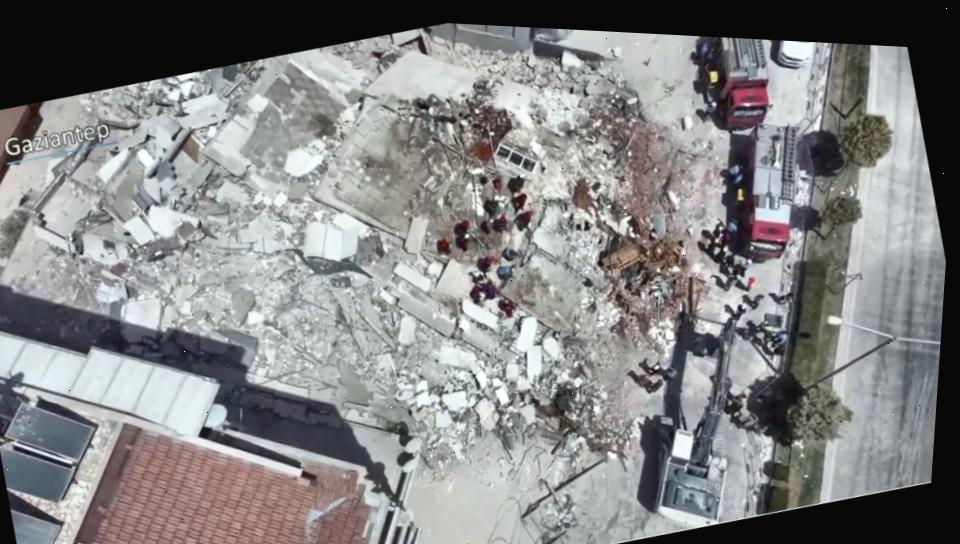kapali: (511, 36, 831, 544)
